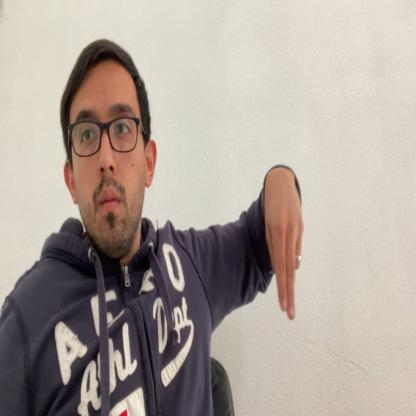N: (265, 170, 304, 320)
